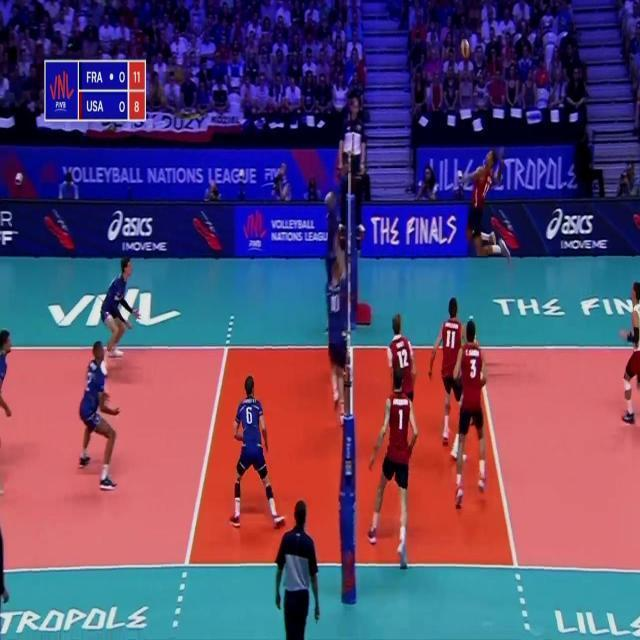volleyball: (460, 39, 470, 59)
